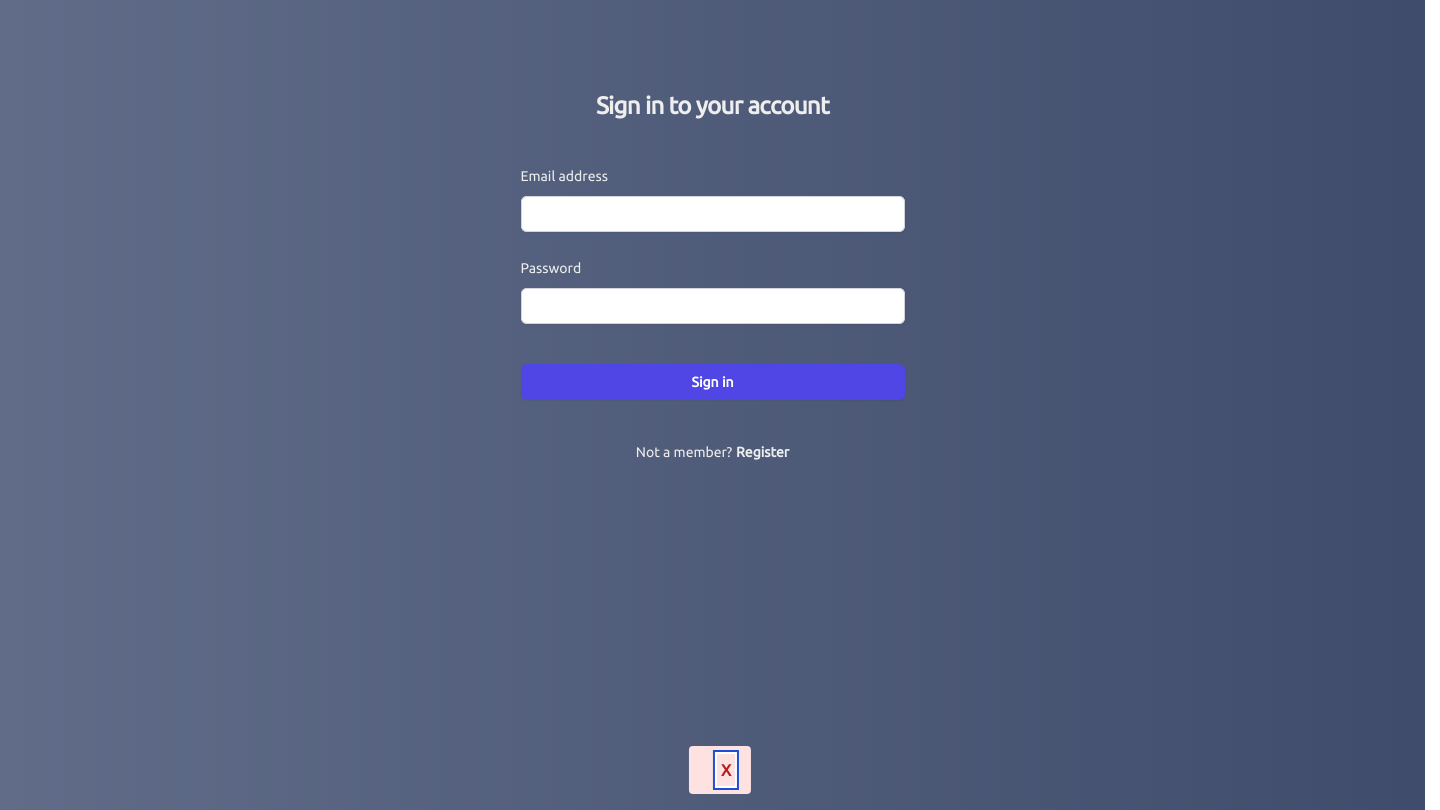
Test: Signin component › displays error message on failed signin
This screenshot has width=1440, height=810.
Type "test@example.com" into the field labelled "Email address".
click(712, 214); type("test@example.com")  # box [520, 196, 904, 232]
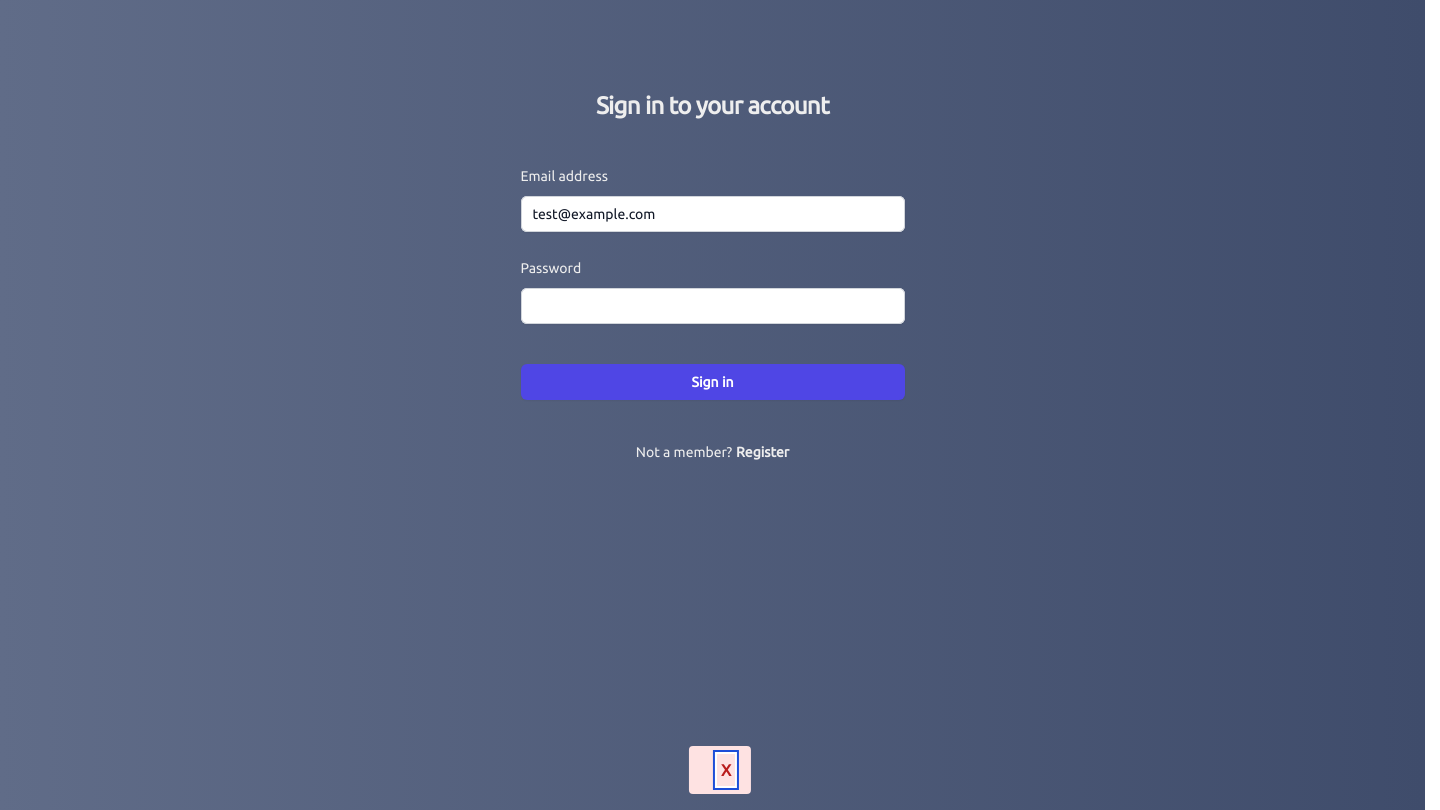
Type "password123" into the password field labelled "Password".
click(712, 306); type("password123")  # box [520, 288, 904, 324]
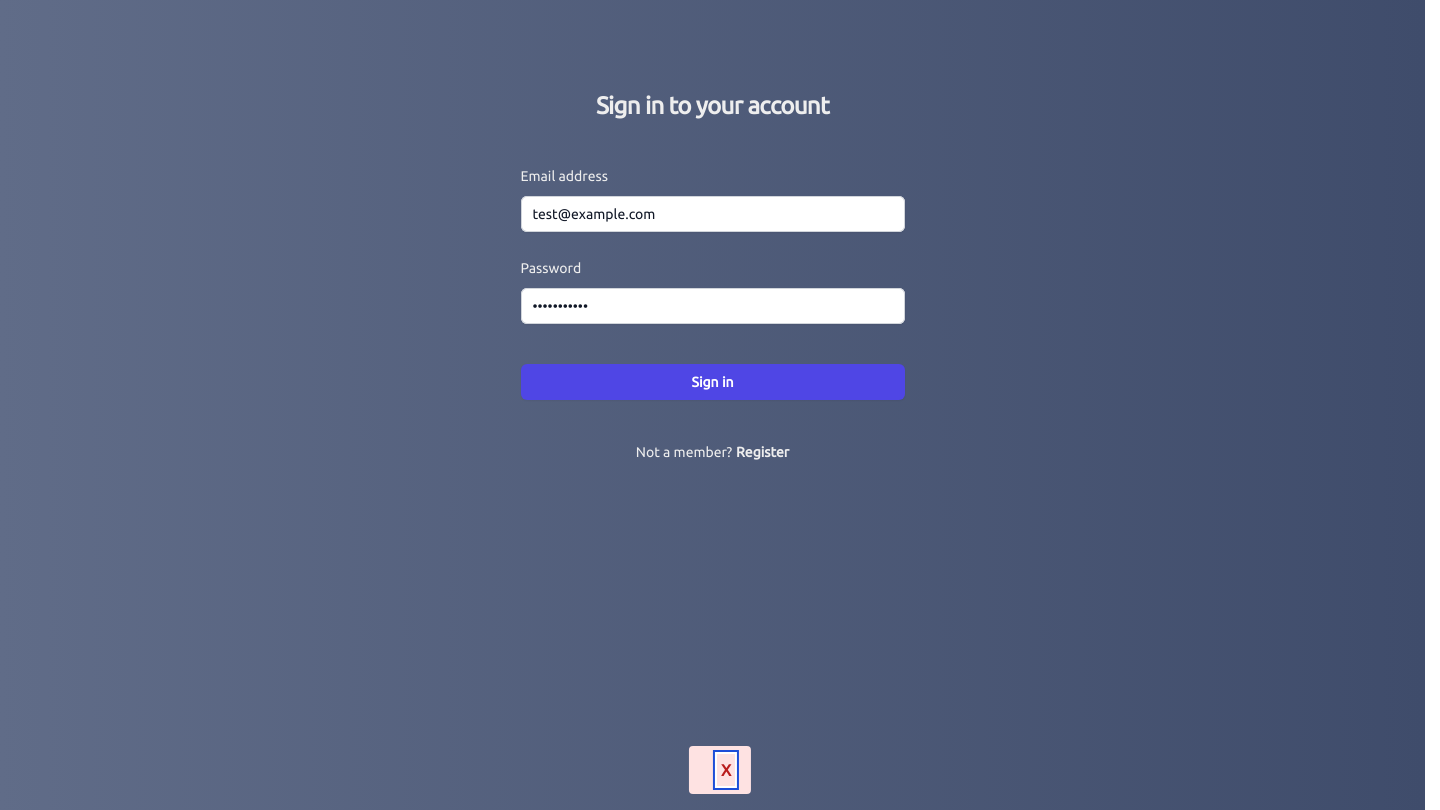
Click the button "Sign in".
click(712, 382)  # box [520, 364, 904, 400]
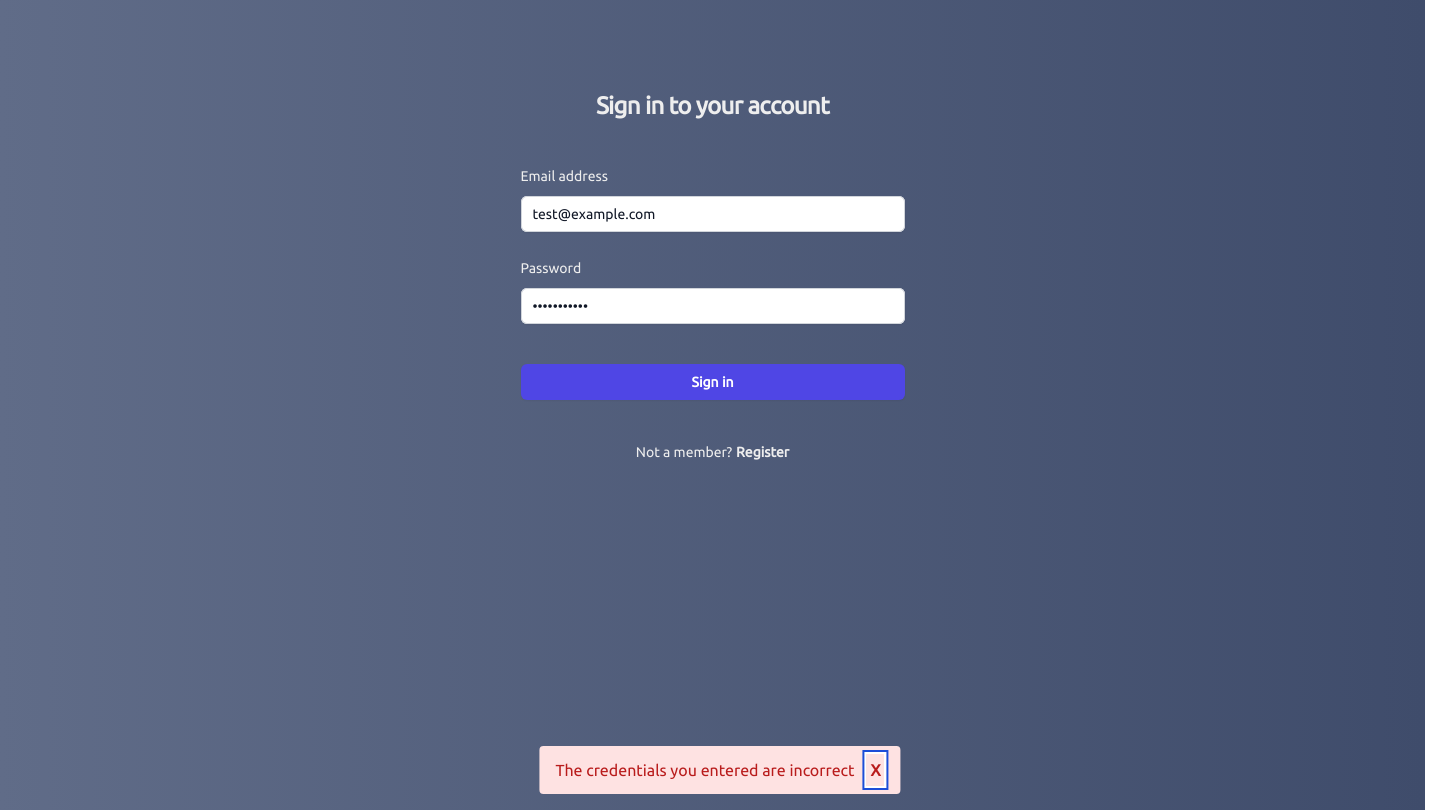
Check: the text "The credentials you entered are incorrect" is shown, box [555, 758, 854, 782]
